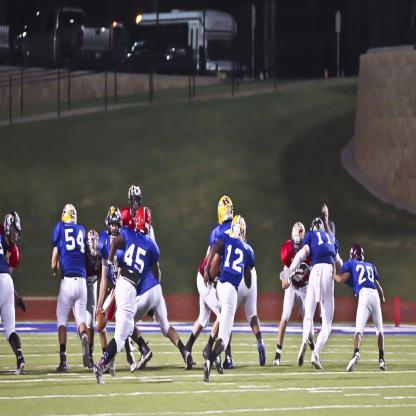Helmet: (1, 205, 22, 246), (289, 216, 307, 249), (216, 191, 233, 225), (106, 207, 121, 242), (229, 214, 250, 238), (134, 207, 153, 232), (60, 205, 78, 230), (87, 228, 101, 259), (130, 185, 142, 208), (350, 241, 364, 260), (311, 218, 325, 232)
